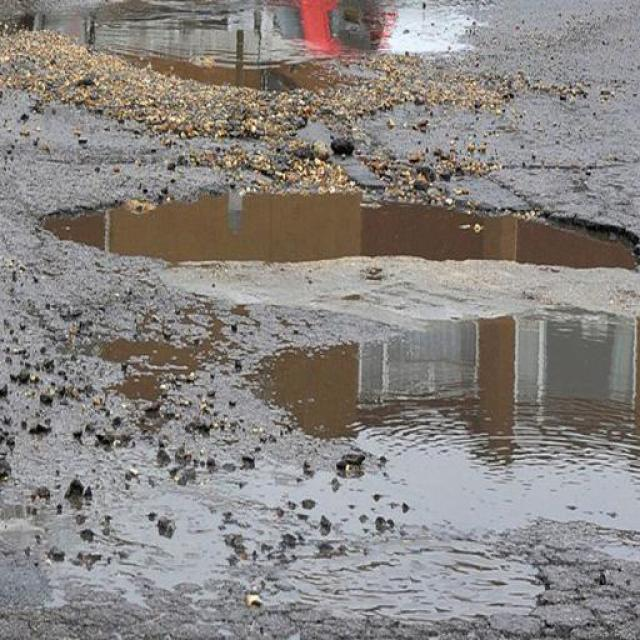puddle: (255, 311, 625, 568), (55, 172, 640, 288), (5, 3, 481, 106)
